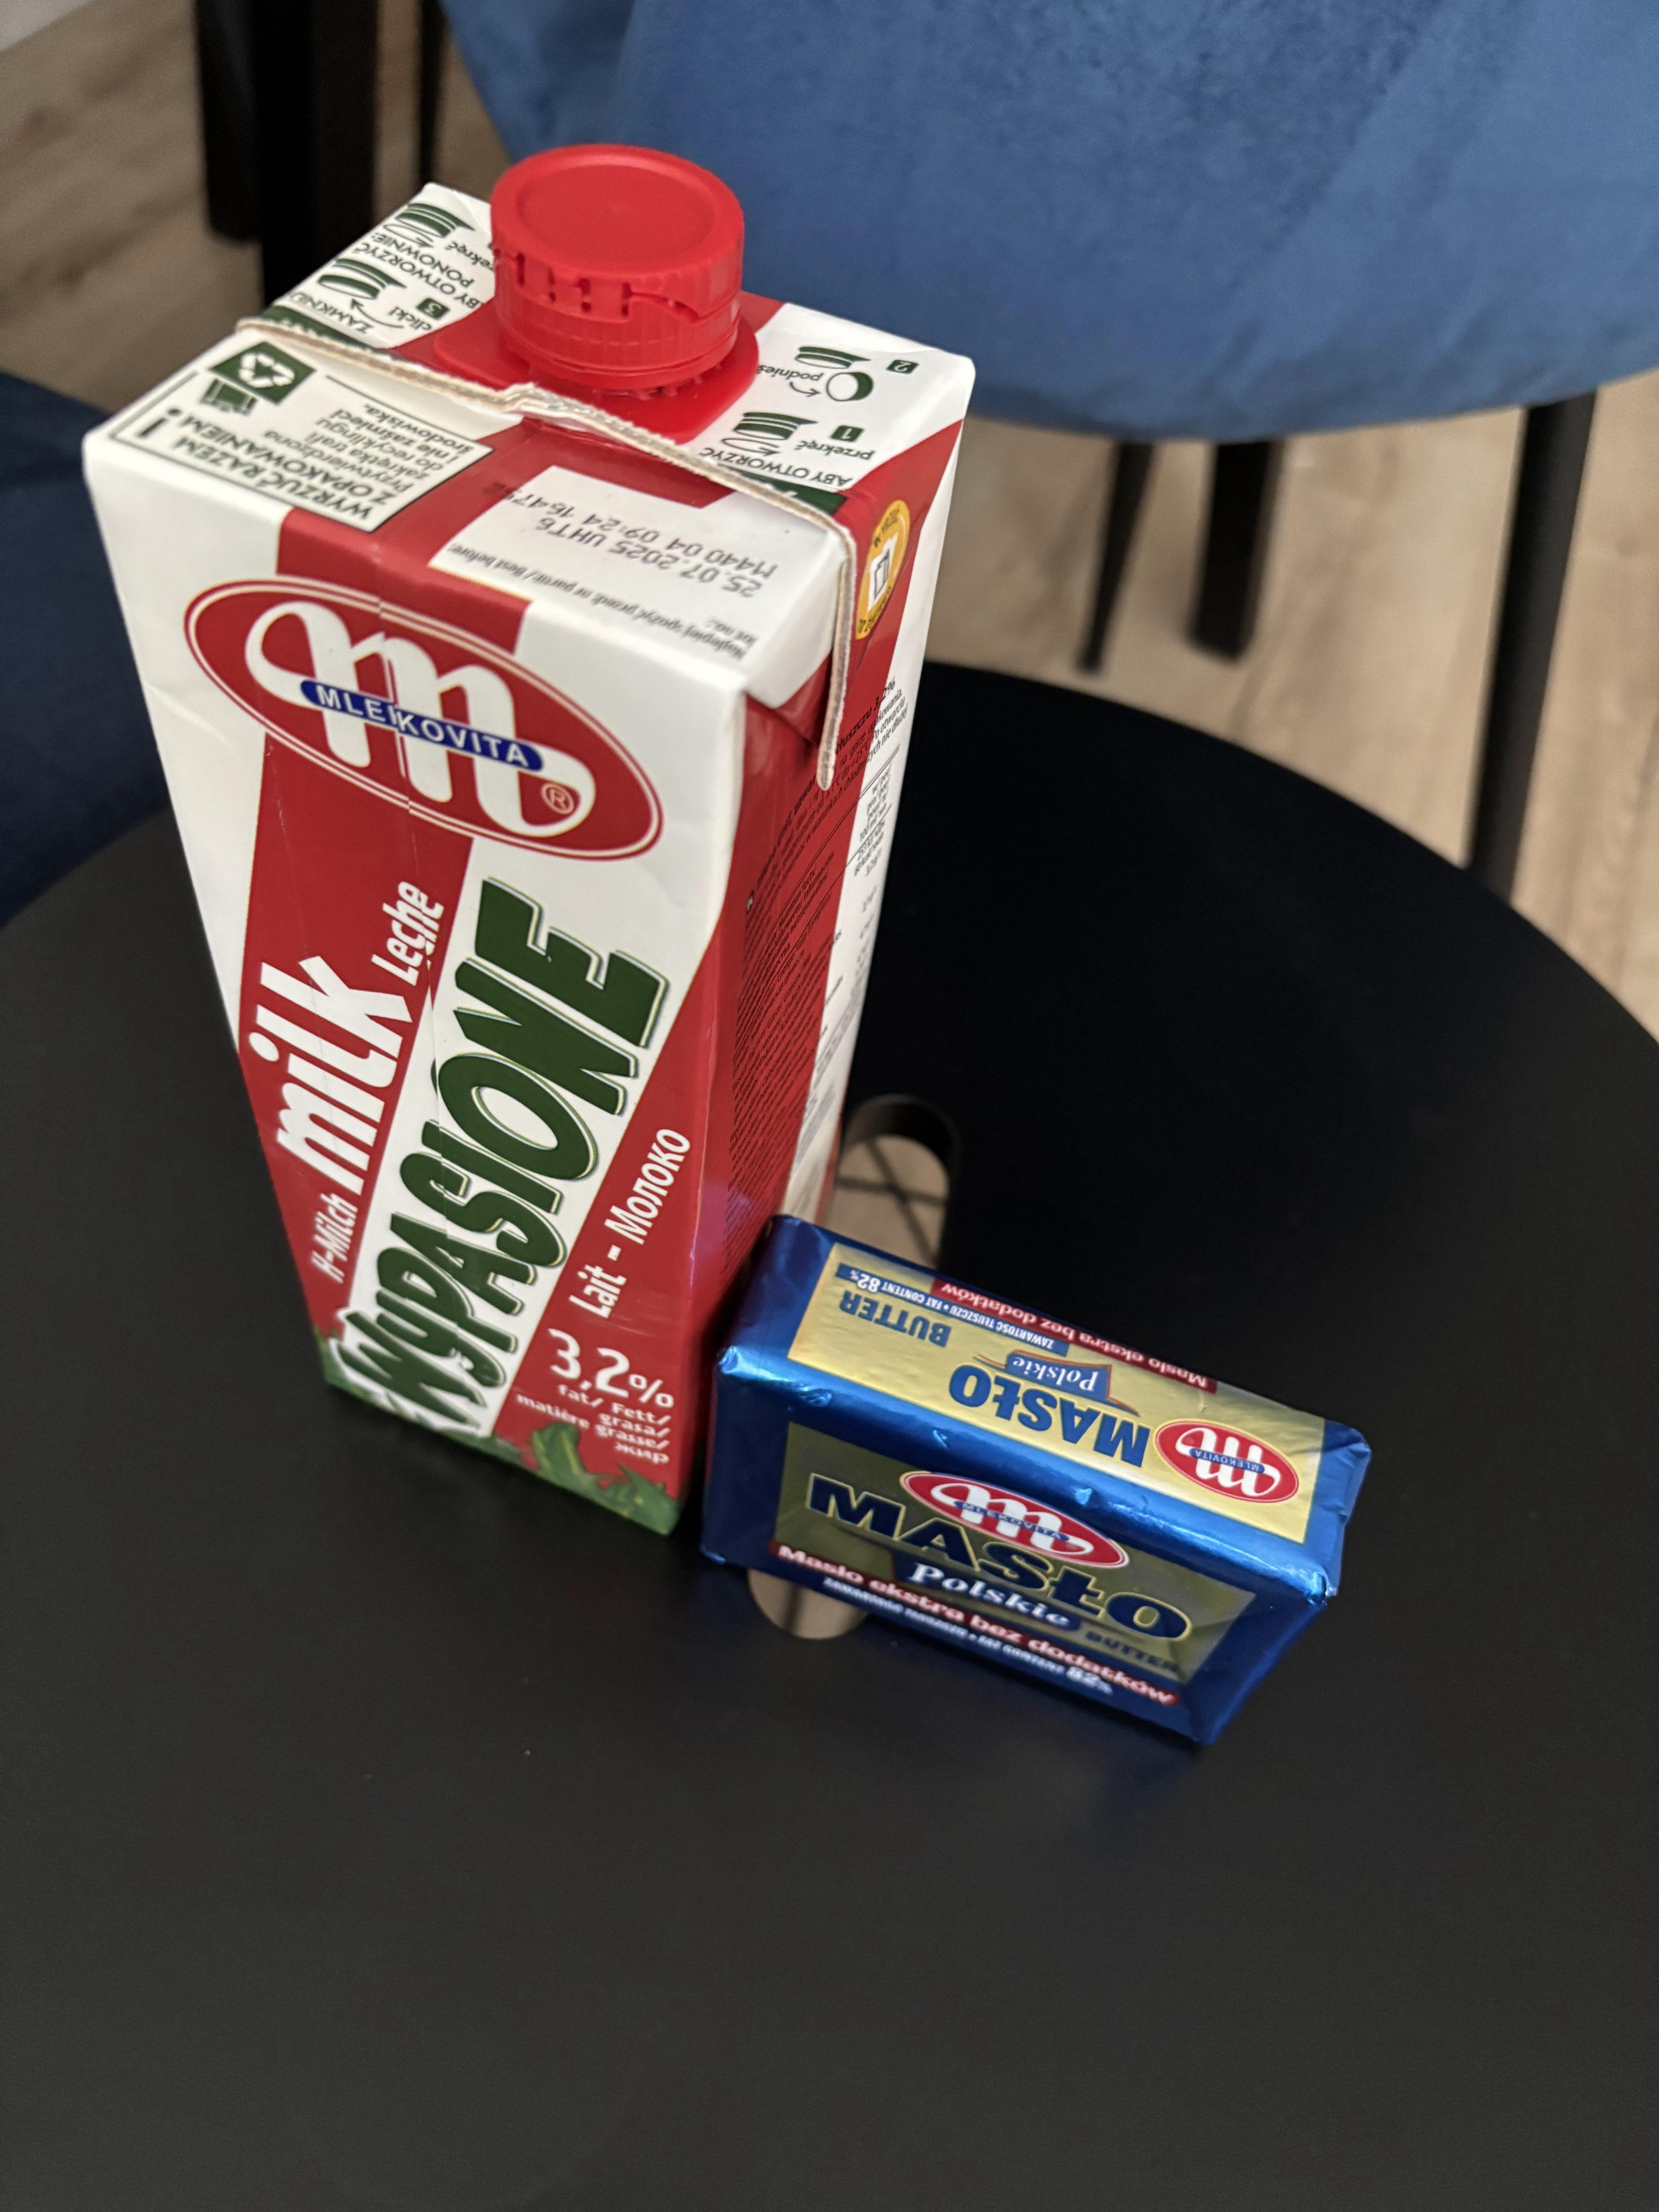Milk: (218, 216, 810, 1547)
